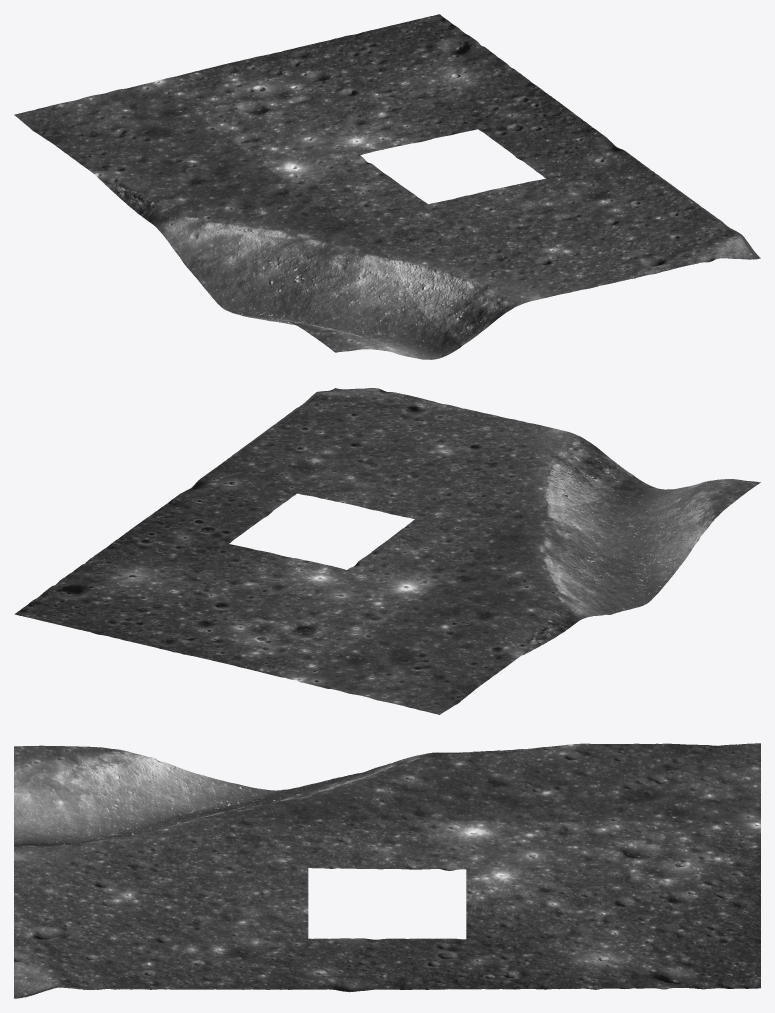
The model's file is near-high.glb.
The picture shows the model from 3 angles, top to bottom: view 1: azimuth 30°, elevation 25°; view 2: azimuth 150°, elevation 25°; view 3: azimuth 270°, elevation 25°; orthographic projection. The views are drawn at different scales.
Parts seen in each view (by area): view 1: near; view 2: near; view 3: near.
Boxes of the visible parts, x1,y1,x2,y2 form: near: (14, 14, 760, 359); near: (14, 388, 760, 714); near: (14, 743, 760, 998).
Size of the model in its own units: 3624 by 353 by 4738.
Materials: 1 (1 with a texture image).
